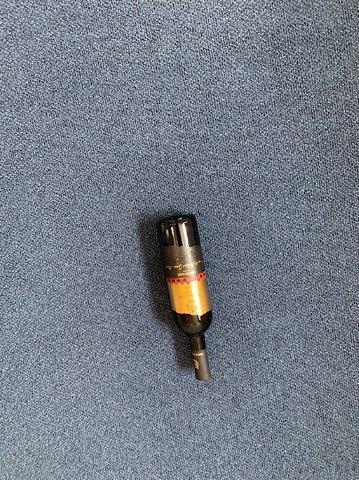botolkaca: (157, 212, 214, 381)
